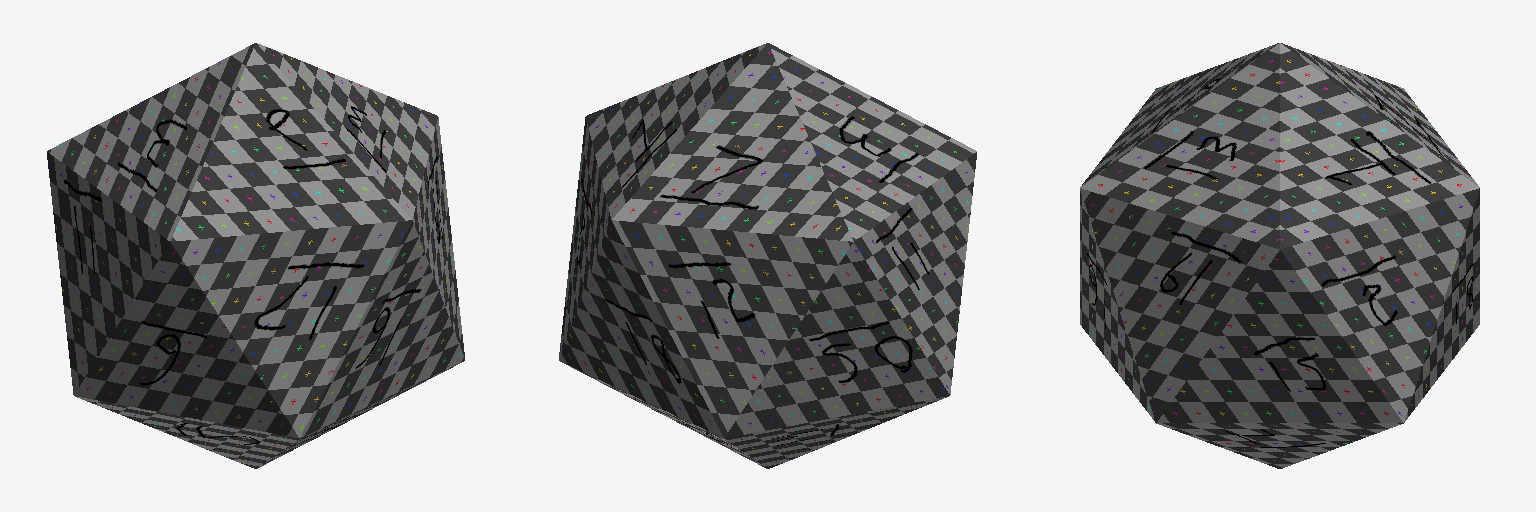
3 renders of one model, left to right at view 1: azimuth 30°, elevation 25°; view 2: azimuth 150°, elevation 25°; view 3: azimuth 270°, elevation 25°, orthographic.
Parts seen in each view (by area): view 1: Icosphere; view 2: Icosphere; view 3: Icosphere.
Part boxes in pixels (x1,y1,x2,y2): Icosphere: (47, 43, 464, 468); Icosphere: (559, 43, 976, 468); Icosphere: (1080, 43, 1479, 468).
Size of the model in its own units: 0.8944 by 1 by 0.8506.
Materials: 1 (1 with a texture image).